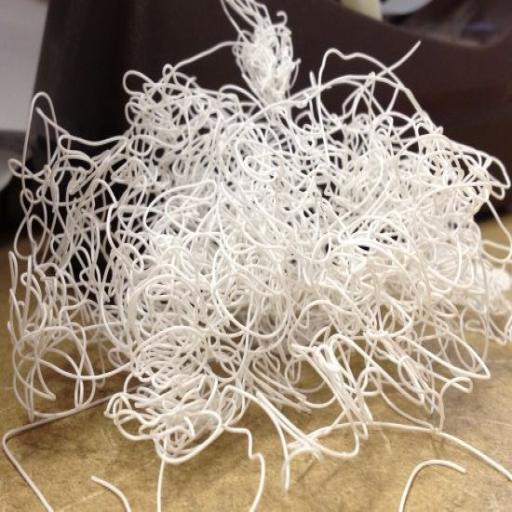spaghetti: (11, 2, 508, 474)
